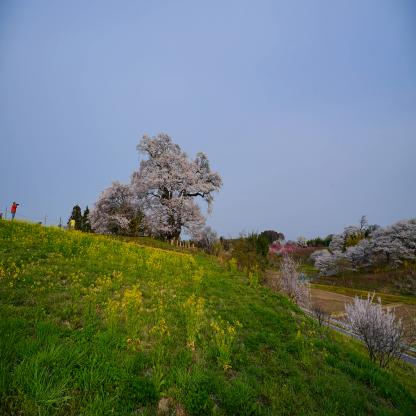EdohiganSakura: (86, 131, 223, 243)
